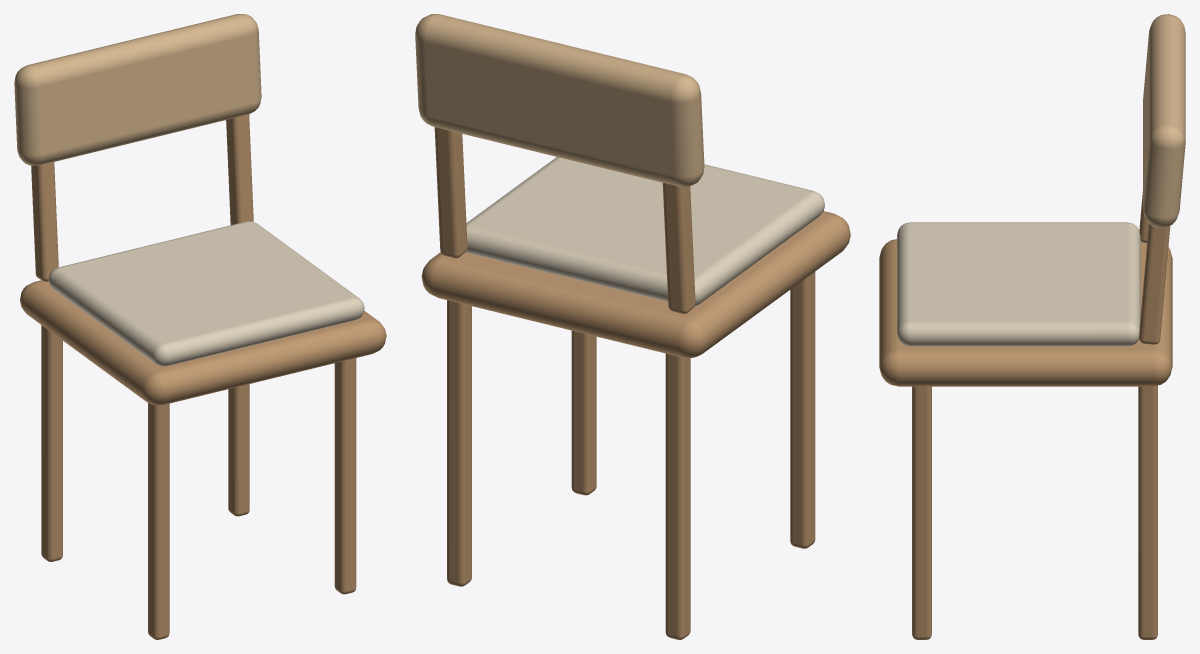
The model's file is diningChair.glb.
3 renders of one model, left to right at view 1: azimuth 30°, elevation 25°; view 2: azimuth 150°, elevation 25°; view 3: azimuth 270°, elevation 25°, orthographic. The views are drawn at different scales.
Parts seen in each view (by area): view 1: studio/oak, studio/linen, studio/oakLight; view 2: studio/oak, studio/oakLight, studio/linen; view 3: studio/linen, studio/oak, studio/oakLight.
Part boxes in pixels (left/top/right/bottom): studio/oak: left=20, top=114, right=386, bottom=639; studio/linen: left=48, top=221, right=364, bottom=366; studio/oakLight: left=14, top=14, right=261, bottom=165; studio/oak: left=421, top=127, right=850, bottom=639; studio/oakLight: left=415, top=14, right=704, bottom=186; studio/linen: left=465, top=157, right=824, bottom=305; studio/linen: left=897, top=222, right=1140, bottom=346; studio/oak: left=879, top=191, right=1172, bottom=639; studio/oakLight: left=1143, top=14, right=1185, bottom=228.
Bounding box in the file's own units: 0.42 × 0.8107 × 0.4337.
